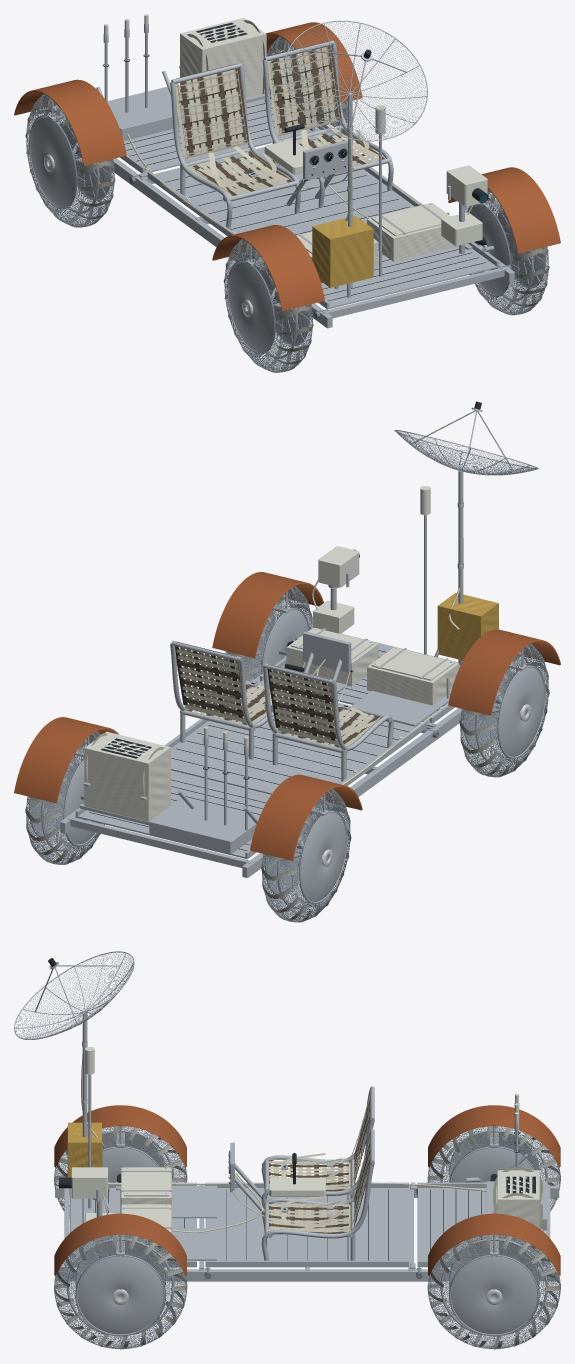
Rendered from lrv-exterior.glb.
3 views of the same model, one above another, from view 1: azimuth 30°, elevation 25°; view 2: azimuth 150°, elevation 25°; view 3: azimuth 270°, elevation 25° (orthographic). The views are drawn at different scales.
Parts seen in each view (by area): view 1: CHASSIS_Machined_aluminium, FENDER_SHELL_Orange_fibreglass_dust_fender (×4), WOVEN_SEAT_LEFT_Nylon_seat_webbing (×2), SEATS_Machined_aluminium, REAR_EQUIPMENT_White_thermal_coating, HGA_WIRE_REFLECTOR_Steel_fixings, WOVEN_SEAT_RIGHT_Nylon_seat_webbing, LCRU_Multilayer_thermal_foil, BATTERY_COVERS_White_thermal_coating, REAR_EQUIPMENT_Machined_aluminium, WHEEL_-1_1.15_MESH_Steel_fixings, WHEEL_-1_-1.15_MESH_Steel_fixings (+23 smaller); view 2: CHASSIS_Machined_aluminium, FENDER_SHELL_Orange_fibreglass_dust_fender (×4), SEATS_Machined_aluminium, REAR_EQUIPMENT_White_thermal_coating, BATTERY_COVERS_White_thermal_coating, REAR_EQUIPMENT_Machined_aluminium, WOVEN_SEAT_LEFT_Nylon_seat_webbing, WHEEL_-1_-1.15_MESH_Steel_fixings, WHEEL_-1_1.15_MESH_Steel_fixings, WOVEN_SEAT_RIGHT_Nylon_seat_webbing, LCRU_Multilayer_thermal_foil, WHEEL_-1_-1.15_OUTER_DISK_Machined_aluminium (+19 smaller); view 3: CHASSIS_Machined_aluminium, FENDER_SHELL_Orange_fibreglass_dust_fender (×4), SEATS_Machined_aluminium, WHEEL_1_-1.15_OUTER_DISK_Machined_aluminium, WHEEL_1_1.15_OUTER_DISK_Machined_aluminium, WHEEL_1_1.15_MESH_Steel_fixings, WHEEL_1_-1.15_MESH_Steel_fixings, BATTERY_COVERS_White_thermal_coating, WHEEL_-1_-1.15_MESH_Steel_fixings, HGA_WIRE_REFLECTOR_Steel_fixings, REAR_EQUIPMENT_White_thermal_coating, WHEEL_1_1.15_TRACTION_Titanium_traction_bands (+28 smaller).
Part boxes in pixels (x1,y1,x2,y2): CHASSIS_Machined_aluminium: (61,97,514,328); FENDER_SHELL_Orange_fibreglass_dust_fender (×4): (14,22,560,310); WOVEN_SEAT_LEFT_Nylon_seat_webbing (×2): (175,69,288,196); SEATS_Machined_aluminium: (170,40,449,235); REAR_EQUIPMENT_White_thermal_coating: (104,14,266,104); HGA_WIRE_REFLECTOR_Steel_fixings: (285,22,426,140); WOVEN_SEAT_RIGHT_Nylon_seat_webbing: (267,47,378,166); LCRU_Multilayer_thermal_foil: (312,216,373,287); BATTERY_COVERS_White_thermal_coating: (296,203,458,266); REAR_EQUIPMENT_Machined_aluminium: (96,33,270,140); WHEEL_-1_1.15_MESH_Steel_fixings: (224,239,312,372); WHEEL_-1_-1.15_MESH_Steel_fixings: (26,94,114,227); CHASSIS_Machined_aluminium: (60,633,513,877); FENDER_SHELL_Orange_fibreglass_dust_fender (×4): (14,572,560,860); SEATS_Machined_aluminium: (170,639,449,781); REAR_EQUIPMENT_White_thermal_coating: (84,726,248,821); BATTERY_COVERS_White_thermal_coating: (286,628,459,705); REAR_EQUIPMENT_Machined_aluminium: (79,746,259,853); WOVEN_SEAT_LEFT_Nylon_seat_webbing: (269,670,378,747); WHEEL_-1_-1.15_MESH_Steel_fixings: (262,789,350,922); WHEEL_-1_1.15_MESH_Steel_fixings: (460,644,548,777); WOVEN_SEAT_RIGHT_Nylon_seat_webbing: (176,647,270,725); LCRU_Multilayer_thermal_foil: (437,592,498,660); WHEEL_-1_-1.15_OUTER_DISK_Machined_aluminium: (301,812,346,901); CHASSIS_Machined_aluminium: (55,1182,559,1281); FENDER_SHELL_Orange_fibreglass_dust_fender (×4): (54,1105,560,1275); SEATS_Machined_aluminium: (148,1086,374,1260); WHEEL_1_-1.15_OUTER_DISK_Machined_aluminium: (451,1256,537,1334); WHEEL_1_1.15_OUTER_DISK_Machined_aluminium: (77,1256,163,1334); WHEEL_1_1.15_MESH_Steel_fixings: (54,1234,186,1348); WHEEL_1_-1.15_MESH_Steel_fixings: (427,1234,560,1348); BATTERY_COVERS_White_thermal_coating: (121,1167,171,1256); WHEEL_-1_-1.15_MESH_Steel_fixings: (427,1126,560,1211); HGA_WIRE_REFLECTOR_Steel_fixings: (15,952,133,1039); REAR_EQUIPMENT_White_thermal_coating: (497,1094,539,1257); WHEEL_1_1.15_TRACTION_Titanium_traction_bands: (54,1234,187,1349).
Size of the model in its own units: 1.88 by 2.1 by 3.37.
